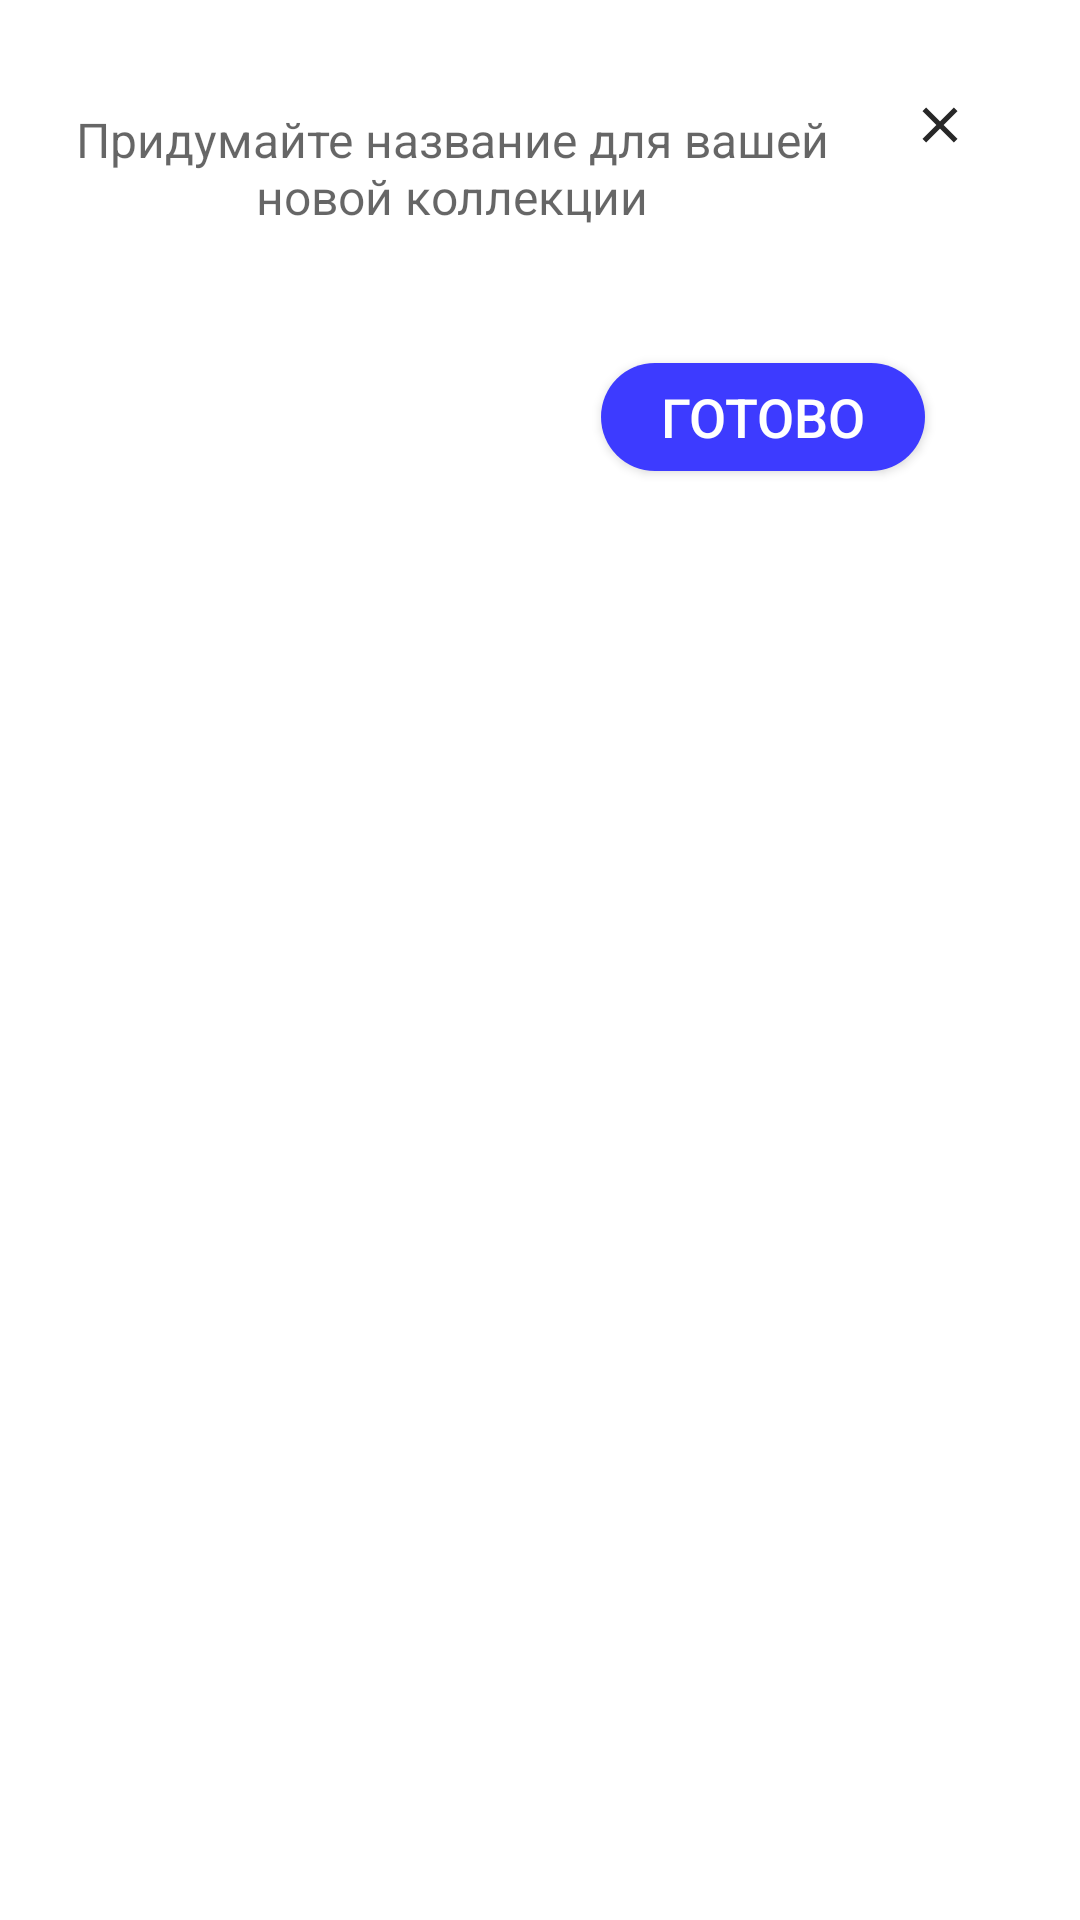

Where icons sit on this 1080w x 1920h app screen, as (x1, y1, x2, y2):
dismiss bottom sheet: (922, 107, 958, 143)
